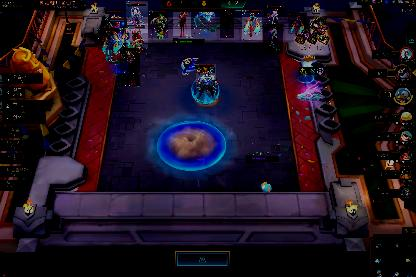1_lillia: (173, 12, 191, 36)
1_sohm: (194, 10, 216, 34)
1_sylas: (104, 12, 124, 28)
1_taliyah: (288, 14, 306, 34)
1_zippy: (126, 24, 148, 48)
2_jax: (148, 10, 168, 38)
2_lillia: (120, 50, 140, 86), (220, 10, 234, 38)
2_lux: (263, 24, 283, 54), (264, 6, 286, 28)
2_sohm: (106, 20, 126, 64)
2_sylas: (196, 64, 216, 102)
2_taliyah: (242, 10, 262, 40), (98, 28, 114, 50)
2_vladimir: (126, 1, 148, 33)
